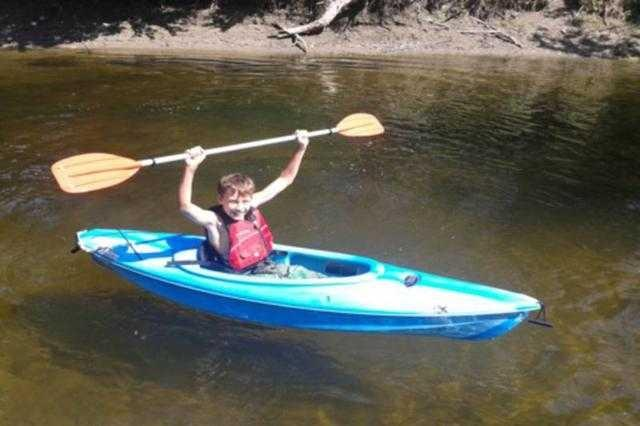kayak: (75, 225, 541, 339)
